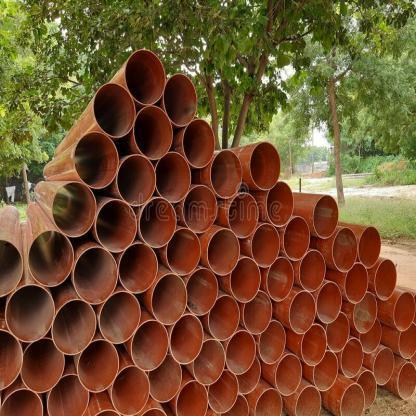pipe: (5, 284, 55, 342), (27, 230, 74, 287), (73, 246, 118, 305), (74, 131, 119, 188), (52, 182, 97, 236), (52, 300, 96, 355), (93, 82, 136, 138), (20, 338, 64, 392), (124, 49, 166, 105), (96, 199, 138, 252), (98, 291, 140, 344), (133, 106, 173, 160), (78, 340, 119, 392), (116, 154, 156, 206), (118, 242, 158, 293), (111, 364, 150, 416), (139, 197, 177, 248), (131, 320, 169, 371), (162, 74, 198, 126), (152, 272, 188, 324), (47, 373, 90, 416), (155, 152, 191, 202), (166, 227, 202, 276), (169, 314, 204, 364), (182, 185, 218, 233), (182, 118, 216, 168), (147, 354, 182, 402), (192, 338, 226, 386), (209, 150, 242, 198), (207, 228, 240, 276), (186, 268, 218, 316), (249, 142, 280, 191), (208, 295, 240, 341), (230, 257, 261, 303), (0, 328, 23, 390), (0, 239, 24, 297), (228, 192, 258, 238), (226, 330, 257, 374), (208, 369, 239, 413), (242, 290, 272, 335), (266, 180, 294, 228), (251, 223, 280, 267), (266, 257, 294, 301), (288, 290, 316, 334), (258, 320, 286, 364), (0, 388, 44, 416), (332, 226, 358, 272), (283, 216, 310, 260), (176, 380, 209, 416), (299, 249, 326, 292), (312, 195, 338, 239), (275, 354, 302, 396), (316, 281, 342, 323), (352, 292, 378, 334), (301, 324, 327, 366), (313, 350, 339, 391), (344, 262, 368, 304), (358, 226, 381, 268), (374, 259, 397, 301), (326, 312, 350, 352), (340, 338, 364, 378), (254, 386, 283, 416), (294, 385, 322, 416), (237, 356, 261, 392), (356, 370, 377, 411), (394, 292, 416, 330), (372, 347, 394, 385), (359, 318, 382, 353), (340, 384, 365, 415), (398, 322, 416, 360), (398, 362, 416, 400), (220, 394, 249, 416)
